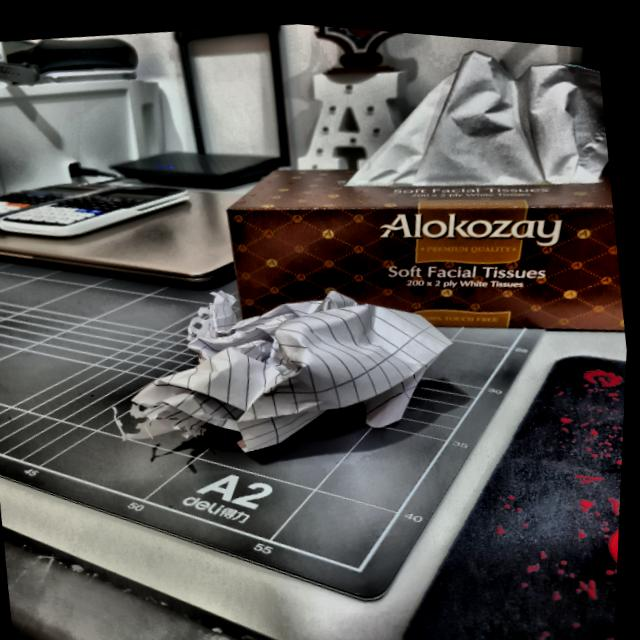Paper: (112, 253, 467, 481)
